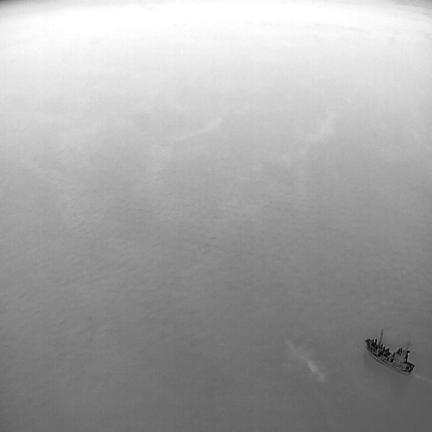flukeprints: (287, 341, 325, 381)
